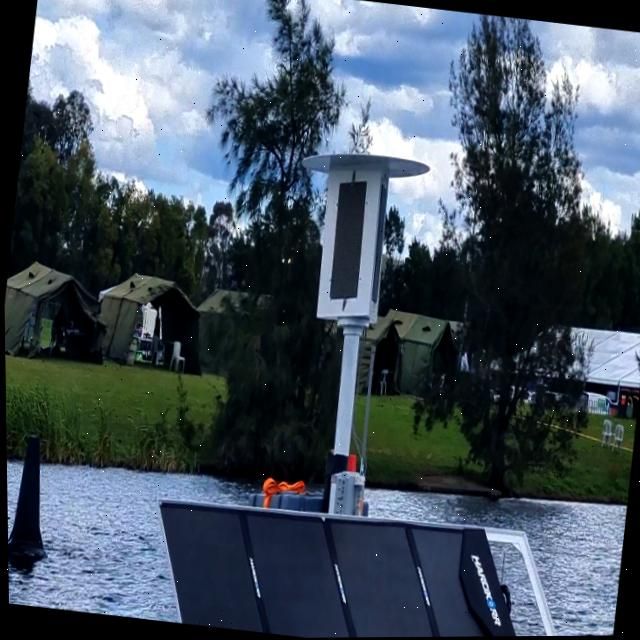led: (317, 169, 384, 312)
